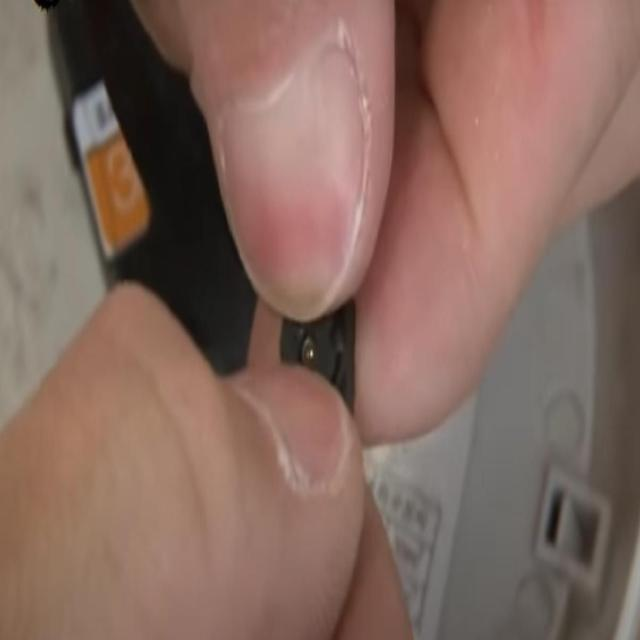hidden camera: (289, 322, 332, 385)
